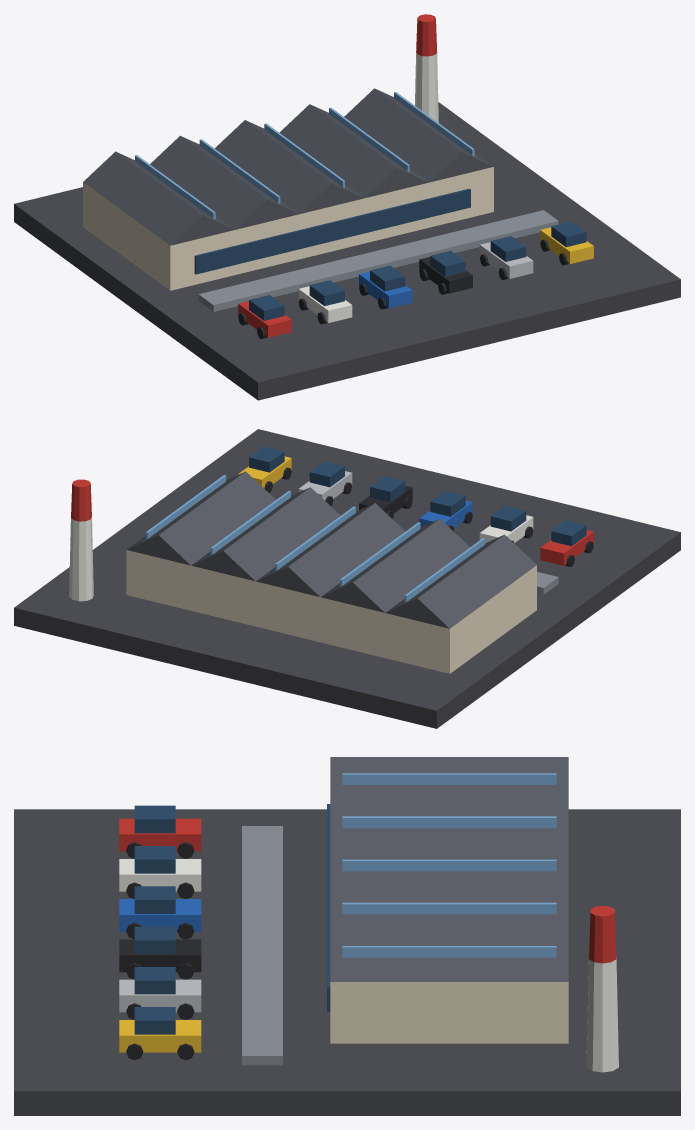
File: auto_rent_3.glb
3 views of the same model, one above another, from view 1: azimuth 30°, elevation 25°; view 2: azimuth 150°, elevation 25°; view 3: azimuth 270°, elevation 25° (orthographic). The views are drawn at different scales.
Visible parts, largest first — view 1: auto_rent_3; view 2: auto_rent_3; view 3: auto_rent_3.
Part boxes in pixels (<box>): auto_rent_3: <box>14,14,680,400</box>; auto_rent_3: <box>14,429,680,728</box>; auto_rent_3: <box>14,757,680,1115</box>.
Bounding box in the file's own units: 1.96 × 0.58 × 1.96.
